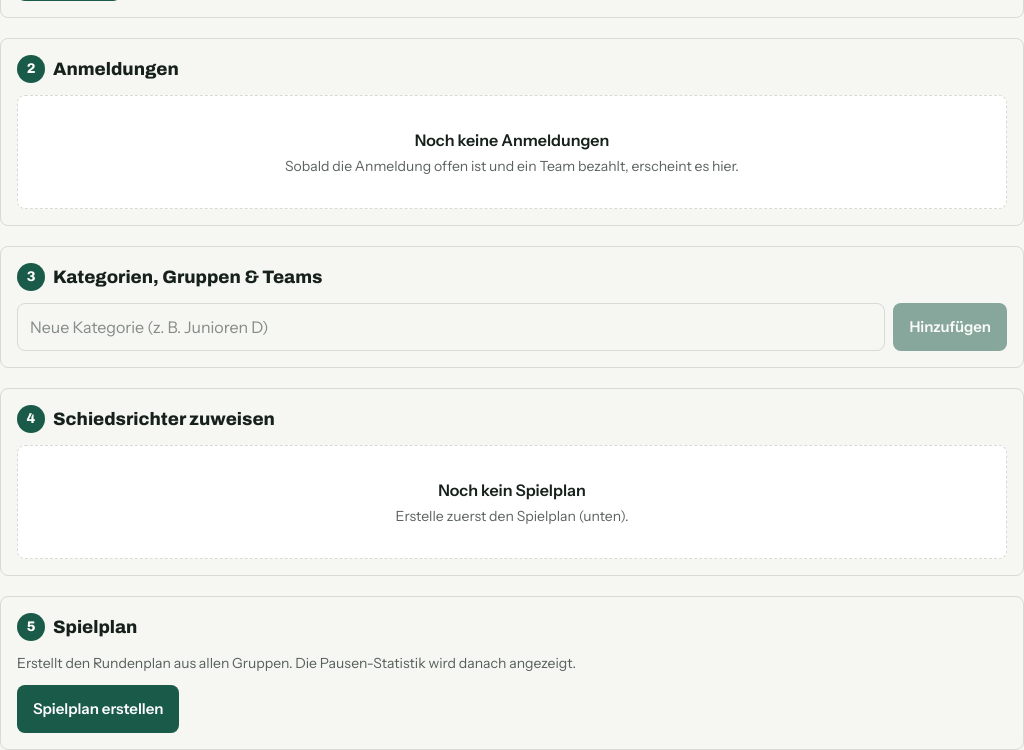
Scenario: schedule generation blockers › lists the teams that still have no group
This screenshot has width=1024, height=750.
(page scrolled)
Click the button "Spielplan erstellen". click: (98, 709)
box: left=17, top=685, right=180, bottom=733
(page scrolled)
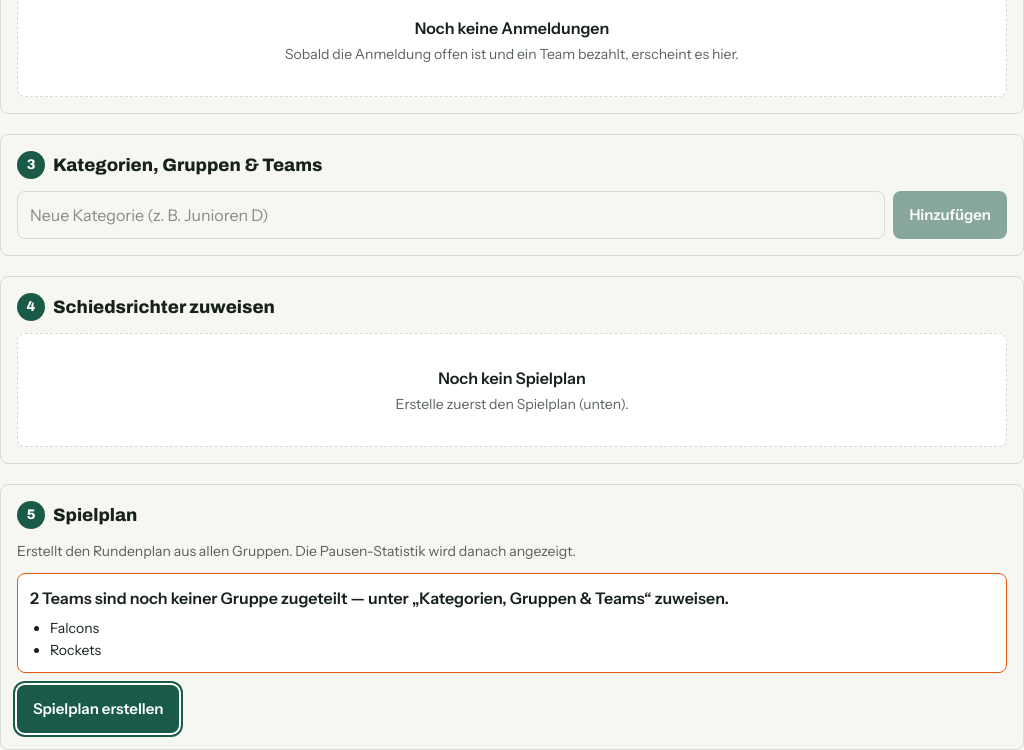
Result: the message shows "2 Teams sind noch keiner Gruppe zugeteilt" at left=30, top=588, right=729, bottom=608
Result: the message shows "Falcons" at left=50, top=619, right=99, bottom=637
Result: the message shows "Rockets" at left=50, top=641, right=101, bottom=659
